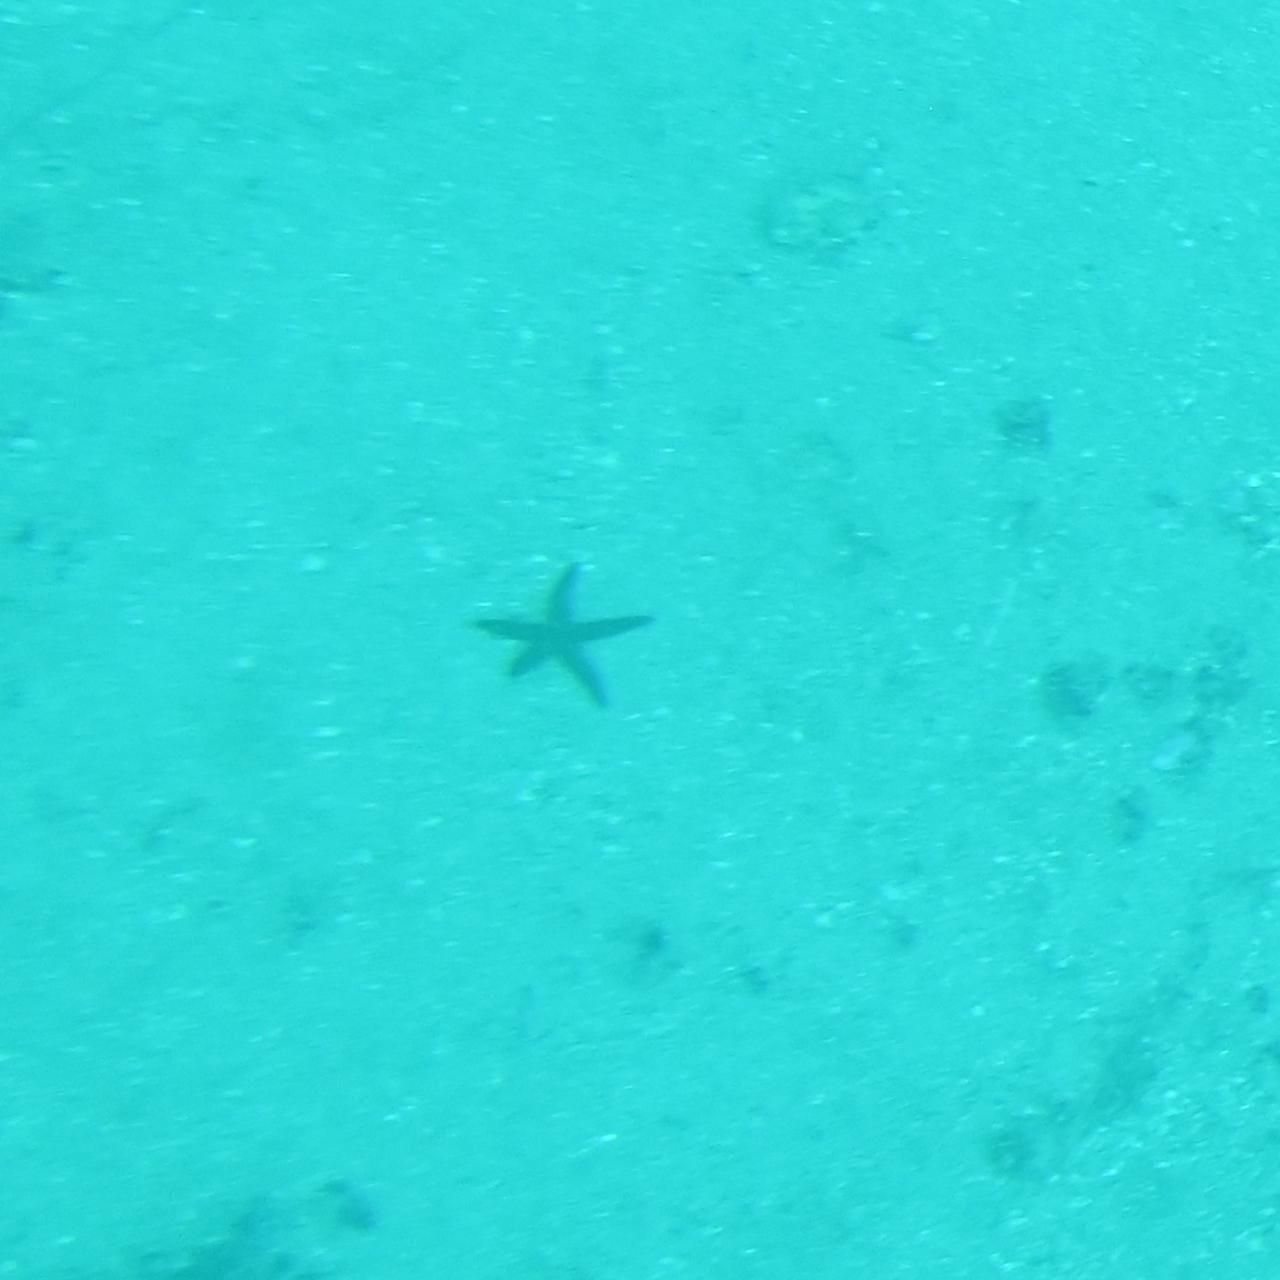Asteroidea: (457, 558, 647, 722)
